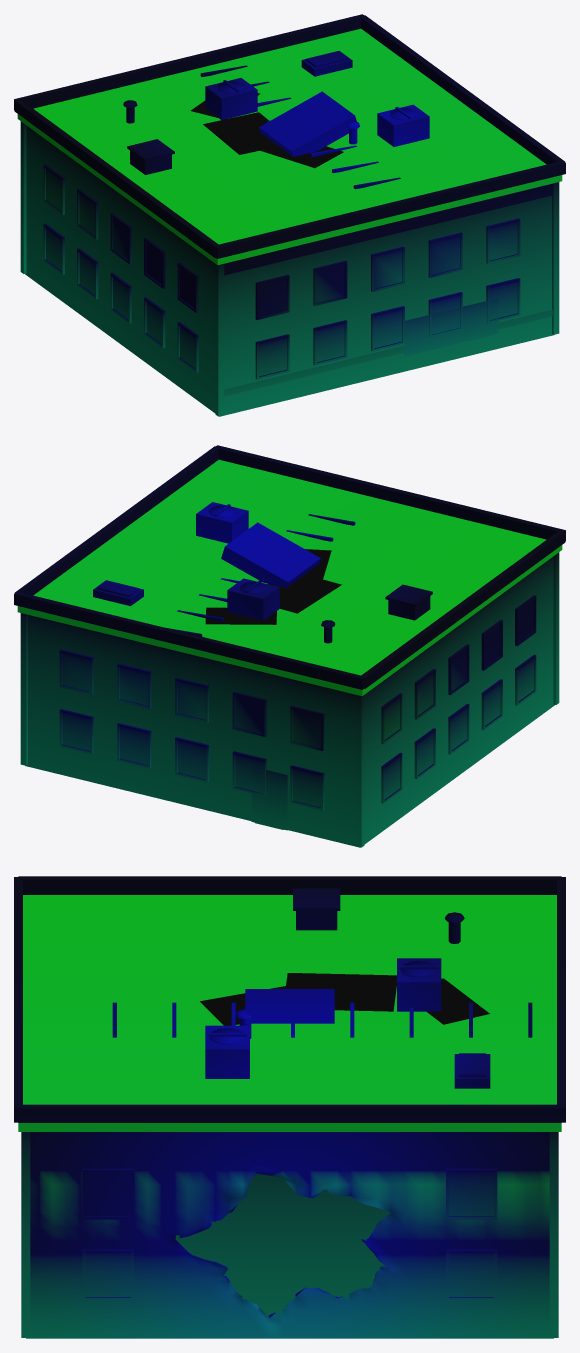
Rendered from city2storyc_damaged.glb.
3 views of the same model, one above another, from view 1: azimuth 30°, elevation 25°; view 2: azimuth 150°, elevation 25°; view 3: azimuth 270°, elevation 25° (orthographic). The views are drawn at different scales.
Visible parts, largest first — view 1: lod0; view 2: lod0; view 3: lod0.
Part boxes in pixels (left/top/right/bottom): lod0: left=14, top=14, right=565, bottom=416; lod0: left=14, top=445, right=565, bottom=847; lod0: left=14, top=876, right=565, bottom=1338.
Size of what is drawn, in the model's own units: 18.5 by 9.55 by 18.6.
